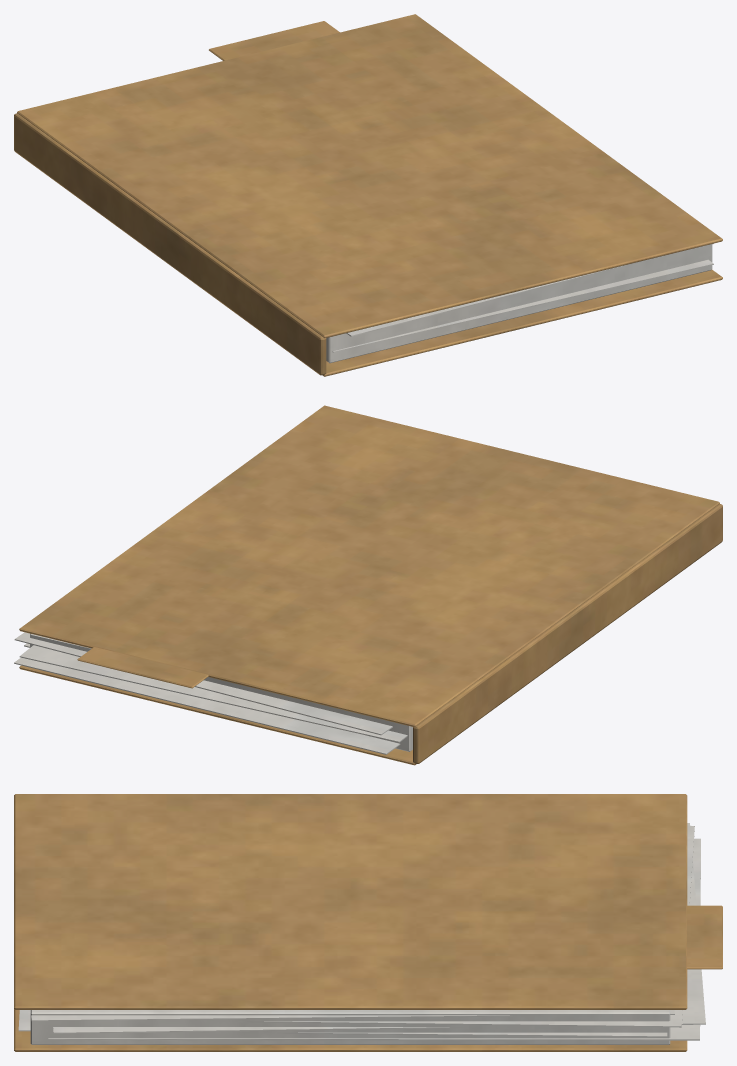
3 renders of one model, top to bottom at view 1: azimuth 30°, elevation 25°; view 2: azimuth 150°, elevation 25°; view 3: azimuth 270°, elevation 25°, orthographic. The views are drawn at different scales.
Visible parts, largest first — view 1: deckel, rueckfalz, stapel, rueck, reiter, b1, b4; view 2: deckel, rueckfalz, b0, b2, b3, reiter, rueck, stapel; view 3: deckel, stapel, rueck, b2, b0, b3, reiter, b4, b1.
Part boxes in pixels (x1,y1,x2,y2): deckel: (17, 14, 722, 337); rueckfalz: (14, 113, 326, 375); stapel: (326, 244, 712, 363); rueck: (323, 269, 722, 376); reiter: (209, 21, 339, 60); b1: (332, 259, 713, 352); b4: (346, 248, 692, 336); deckel: (19, 405, 719, 726); rueckfalz: (413, 504, 722, 763); b0: (14, 657, 400, 754); b2: (19, 645, 407, 742); b3: (14, 632, 392, 735); reiter: (77, 647, 208, 688); rueck: (19, 665, 416, 765); stapel: (30, 633, 412, 751); deckel: (14, 794, 687, 1009); stapel: (30, 1010, 670, 1044); rueck: (14, 1009, 687, 1051); b2: (53, 823, 705, 1033); b0: (48, 838, 700, 1040); b3: (237, 825, 694, 1027); reiter: (686, 905, 722, 969); b4: (31, 1010, 674, 1021); b1: (18, 1010, 667, 1037).
Bounding box in the file's own units: 0.2468 × 0.0238 × 0.337.
Materials: 2 (2 with a texture image).
